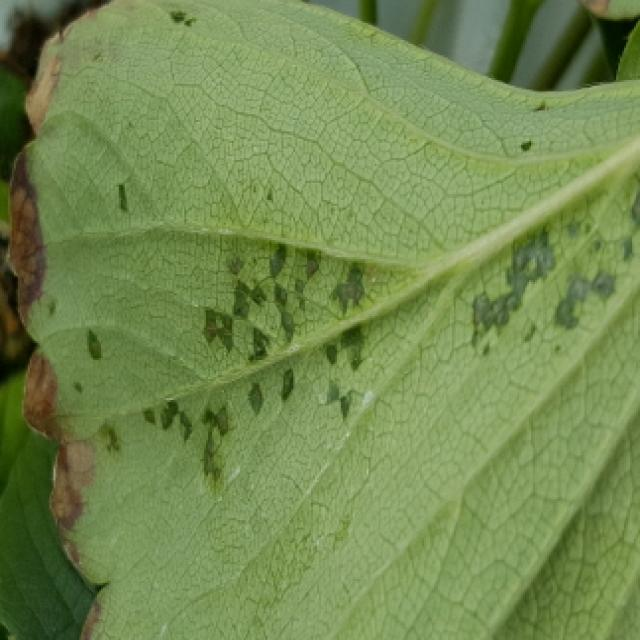Angular Leafspot: (5, 0, 640, 640)
